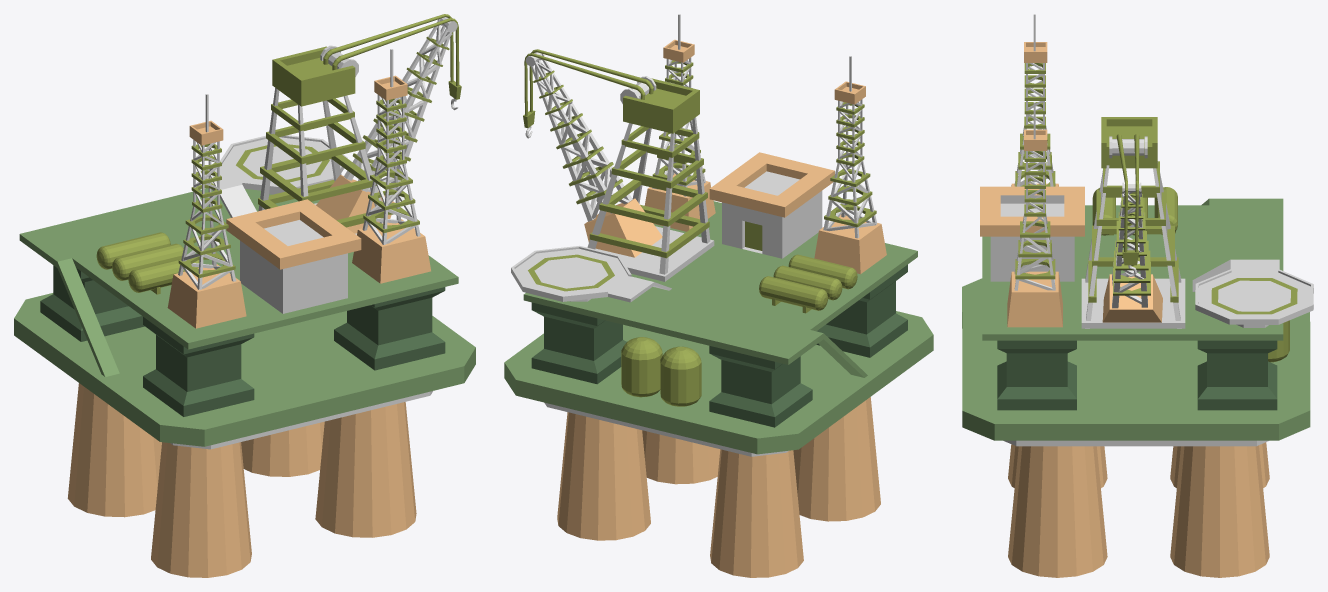
The model's file is Sonda Offshore Sustentavel.fbx.
The picture shows the model from 3 angles, left to right: view 1: azimuth 30°, elevation 25°; view 2: azimuth 150°, elevation 25°; view 3: azimuth 270°, elevation 25°; orthographic projection. The views are drawn at different scales.
Parts seen in each view (by area): view 1: Sonda Offshore Sustentavel; view 2: Sonda Offshore Sustentavel; view 3: Sonda Offshore Sustentavel.
Part boxes in pixels (<box>): Sonda Offshore Sustentavel: <box>14,14,475,577</box>; Sonda Offshore Sustentavel: <box>504,14,933,577</box>; Sonda Offshore Sustentavel: <box>962,14,1313,577</box>.
Size of the model in its own units: 81.04 by 99.36 by 68.69.
